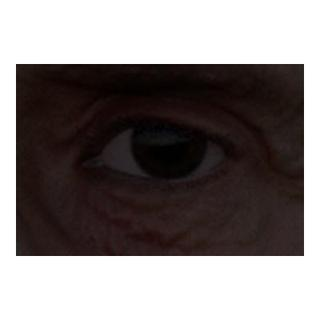pupil: (151, 125, 185, 159)
